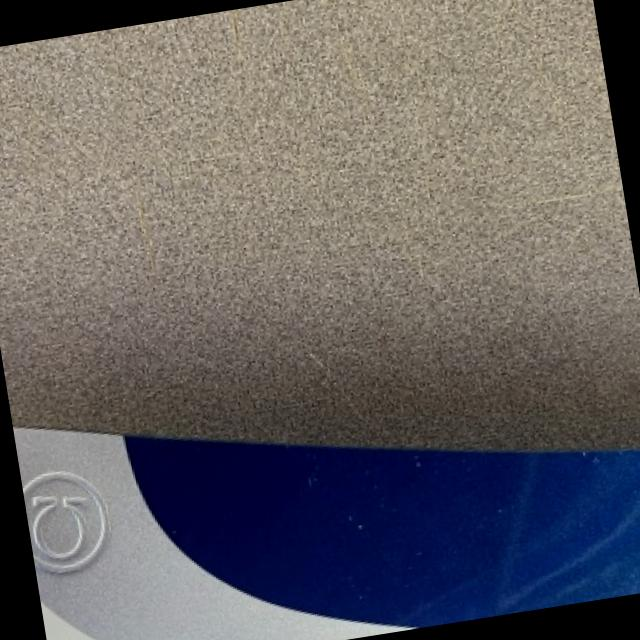healthy: (0, 0, 640, 447), (13, 426, 640, 640), (23, 471, 105, 570)
